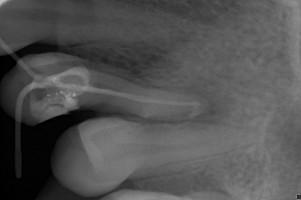Furcation Involvement: (176, 80, 235, 123)
